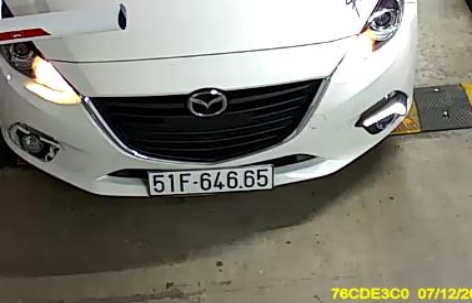plate: (142, 158, 286, 209)
